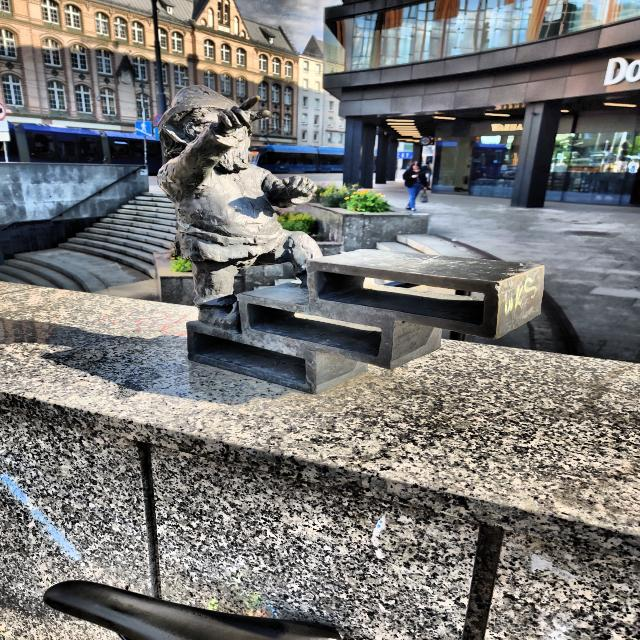Elementek: (158, 86, 543, 392)
